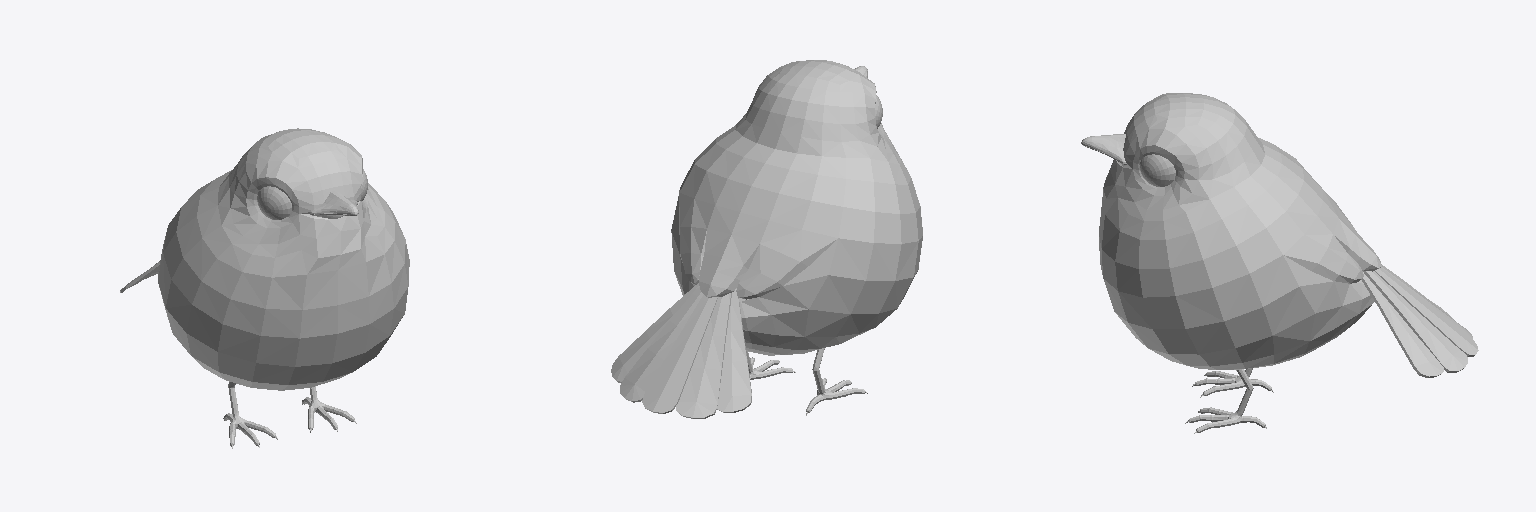
File: Bird_91.obj
3 views of the same model, side by side, from view 1: azimuth 30°, elevation 25°; view 2: azimuth 150°, elevation 25°; view 3: azimuth 270°, elevation 25° (orthographic).
Parts seen in each view (by area): view 1: Object_51; view 2: Object_51; view 3: Object_51.
Boxes of the visible parts, box(x1,y1,x2,y2) form: Object_51: box(120, 128, 409, 448); Object_51: box(611, 60, 922, 418); Object_51: box(1081, 93, 1478, 433).
Size of the model in its own units: 0.418 by 0.5634 by 0.6585.